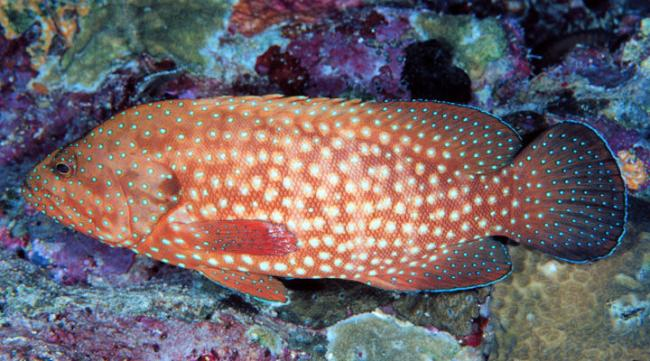fish: (25, 94, 630, 304)
